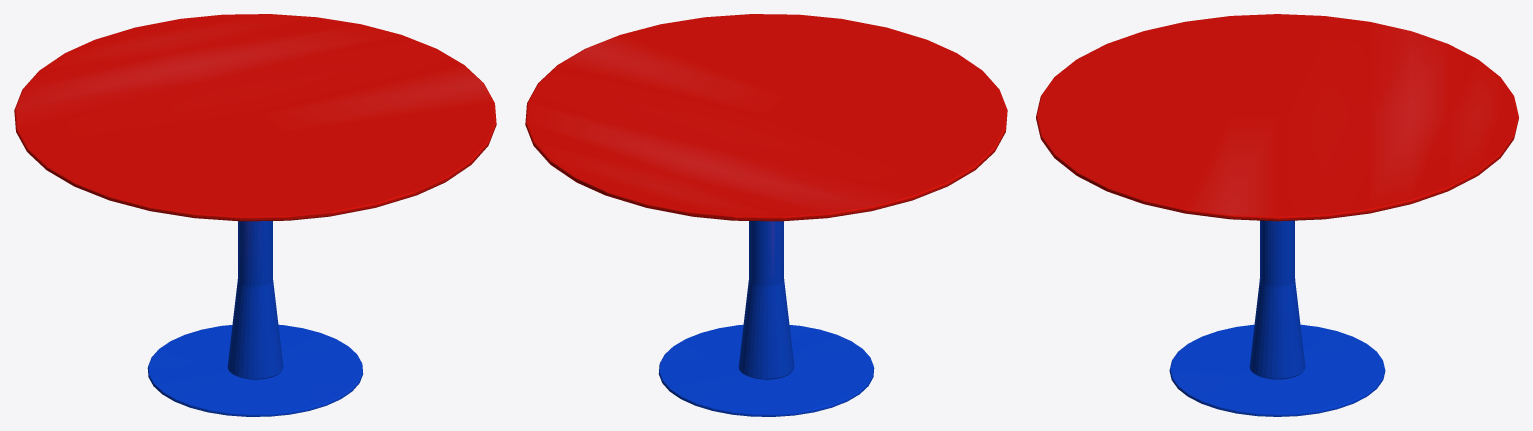
File: _able_V2.fbx
3 views of the same model, side by side, from view 1: azimuth 30°, elevation 25°; view 2: azimuth 150°, elevation 25°; view 3: azimuth 270°, elevation 25° (orthographic).
Visible parts, largest first — view 1: table; view 2: table; view 3: table.
Boxes of the visible parts, bbox=[...] form: table: bbox=[14, 14, 496, 416]; table: bbox=[525, 14, 1007, 416]; table: bbox=[1036, 14, 1518, 416].
Bounding box in the file's own units: 126 × 73.57 × 126.
